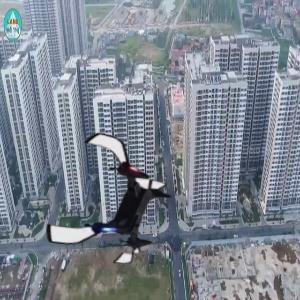drone: (45, 132, 180, 267)
